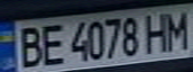0: (84, 17, 106, 62)
4: (66, 18, 90, 63)
7: (103, 16, 124, 60)
8: (121, 14, 145, 57)
B: (12, 22, 48, 70)
E: (36, 20, 66, 68)
H: (139, 10, 175, 54)
M: (163, 7, 193, 51)
